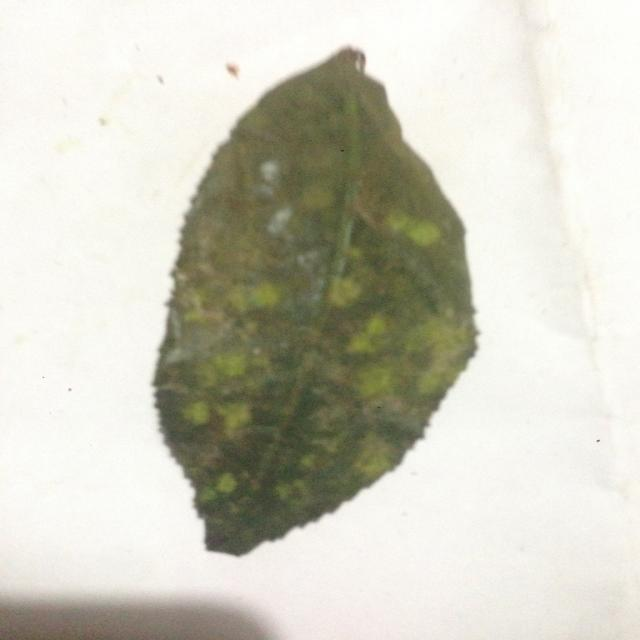Red Leaf Spot: (140, 38, 493, 556)
